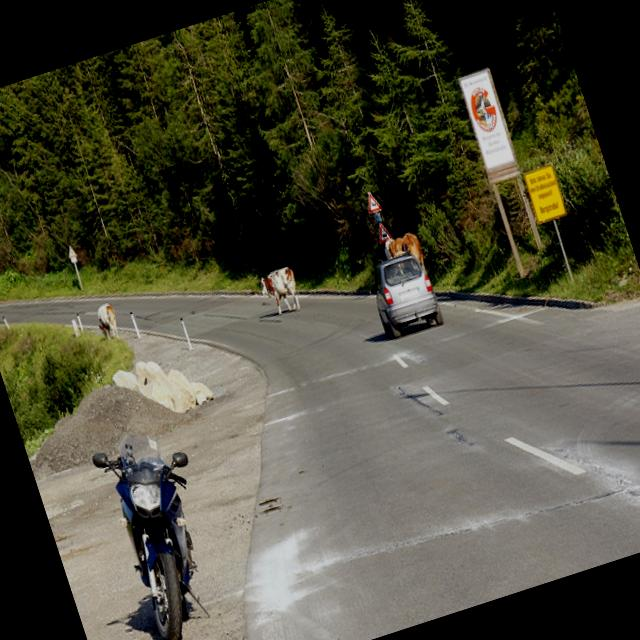Vehicle: (89, 419, 241, 640), (363, 247, 446, 343)
